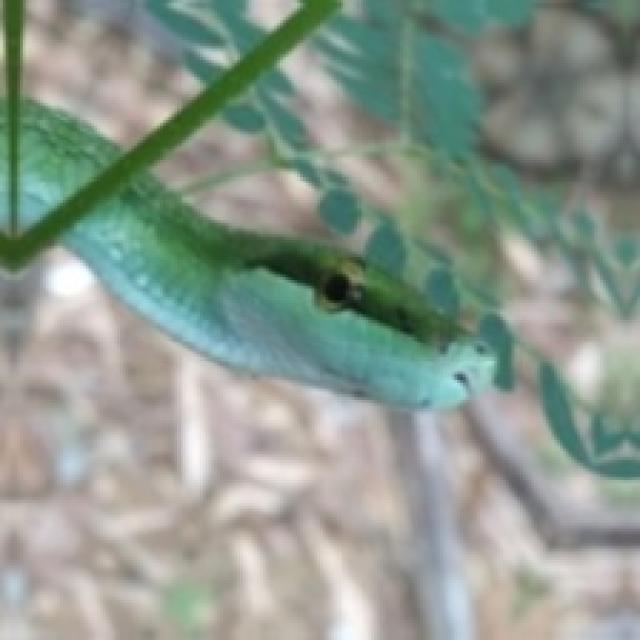red-tailed green ratsnake: (61, 172, 494, 407), (20, 101, 119, 222)
